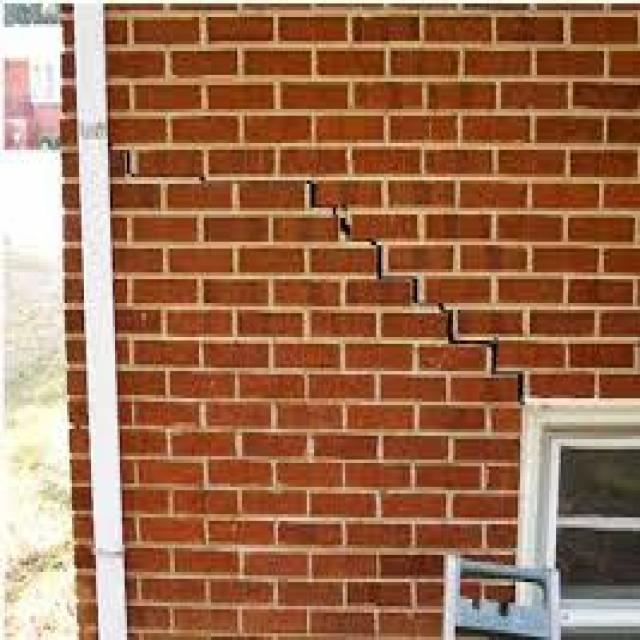Crack: (302, 177, 525, 402)
